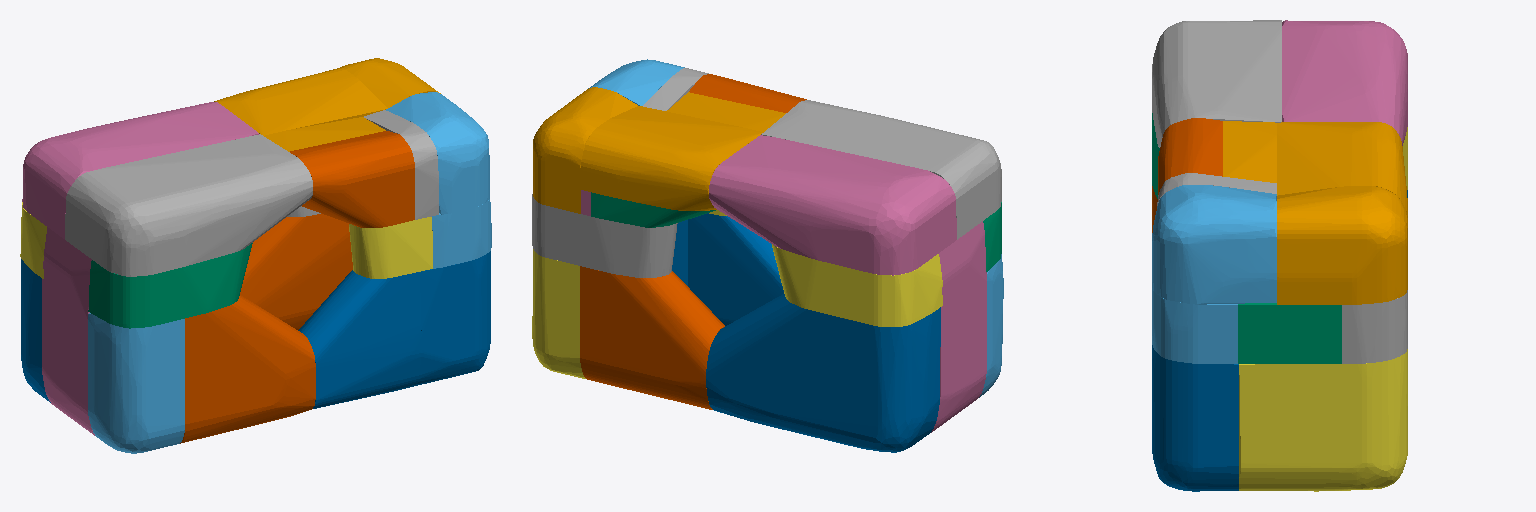
The robot description file, URDF, robot "root":
<robot name="root">
  <link name="link_convex_piece_018.obj">
    <inertial>
      <origin xyz="0 0 0" rpy="0 0 0"/>
    </inertial>
    <visual>
      <origin xyz="0 0 0" rpy="0 0 0"/>
      <geometry>
        <mesh filename="meshes/convex_piece_018.obj" scale="1.0 1.0 1.0"/>
      </geometry>
    </visual>
    <collision>
      <origin xyz="0 0 0" rpy="0 0 0"/>
      <geometry>
        <mesh filename="meshes/convex_piece_018.obj" scale="1.0 1.0 1.0"/>
      </geometry>
    </collision>
  </link>
  <link name="link_convex_piece_021.obj">
    <inertial>
      <origin xyz="0 0 0" rpy="0 0 0"/>
    </inertial>
    <visual>
      <origin xyz="0 0 0" rpy="0 0 0"/>
      <geometry>
        <mesh filename="meshes/convex_piece_021.obj" scale="1.0 1.0 1.0"/>
      </geometry>
    </visual>
    <collision>
      <origin xyz="0 0 0" rpy="0 0 0"/>
      <geometry>
        <mesh filename="meshes/convex_piece_021.obj" scale="1.0 1.0 1.0"/>
      </geometry>
    </collision>
  </link>
  <joint name="link_convex_piece_021.obj_joint" type="fixed">
    <origin xyz="0 0 0" rpy="0 0 0"/>
    <parent link="link_convex_piece_018.obj"/>
    <child link="link_convex_piece_021.obj"/>
  </joint>
  <link name="link_convex_piece_012.obj">
    <inertial>
      <origin xyz="0 0 0" rpy="0 0 0"/>
    </inertial>
    <visual>
      <origin xyz="0 0 0" rpy="0 0 0"/>
      <geometry>
        <mesh filename="meshes/convex_piece_012.obj" scale="1.0 1.0 1.0"/>
      </geometry>
    </visual>
    <collision>
      <origin xyz="0 0 0" rpy="0 0 0"/>
      <geometry>
        <mesh filename="meshes/convex_piece_012.obj" scale="1.0 1.0 1.0"/>
      </geometry>
    </collision>
  </link>
  <joint name="link_convex_piece_012.obj_joint" type="fixed">
    <origin xyz="0 0 0" rpy="0 0 0"/>
    <parent link="link_convex_piece_021.obj"/>
    <child link="link_convex_piece_012.obj"/>
  </joint>
  <link name="link_convex_piece_019.obj">
    <inertial>
      <origin xyz="0 0 0" rpy="0 0 0"/>
    </inertial>
    <visual>
      <origin xyz="0 0 0" rpy="0 0 0"/>
      <geometry>
        <mesh filename="meshes/convex_piece_019.obj" scale="1.0 1.0 1.0"/>
      </geometry>
    </visual>
    <collision>
      <origin xyz="0 0 0" rpy="0 0 0"/>
      <geometry>
        <mesh filename="meshes/convex_piece_019.obj" scale="1.0 1.0 1.0"/>
      </geometry>
    </collision>
  </link>
  <joint name="link_convex_piece_019.obj_joint" type="fixed">
    <origin xyz="0 0 0" rpy="0 0 0"/>
    <parent link="link_convex_piece_012.obj"/>
    <child link="link_convex_piece_019.obj"/>
  </joint>
  <link name="link_convex_piece_014.obj">
    <inertial>
      <origin xyz="0 0 0" rpy="0 0 0"/>
    </inertial>
    <visual>
      <origin xyz="0 0 0" rpy="0 0 0"/>
      <geometry>
        <mesh filename="meshes/convex_piece_014.obj" scale="1.0 1.0 1.0"/>
      </geometry>
    </visual>
    <collision>
      <origin xyz="0 0 0" rpy="0 0 0"/>
      <geometry>
        <mesh filename="meshes/convex_piece_014.obj" scale="1.0 1.0 1.0"/>
      </geometry>
    </collision>
  </link>
  <joint name="link_convex_piece_014.obj_joint" type="fixed">
    <origin xyz="0 0 0" rpy="0 0 0"/>
    <parent link="link_convex_piece_019.obj"/>
    <child link="link_convex_piece_014.obj"/>
  </joint>
  <link name="link_convex_piece_020.obj">
    <inertial>
      <origin xyz="0 0 0" rpy="0 0 0"/>
    </inertial>
    <visual>
      <origin xyz="0 0 0" rpy="0 0 0"/>
      <geometry>
        <mesh filename="meshes/convex_piece_020.obj" scale="1.0 1.0 1.0"/>
      </geometry>
    </visual>
    <collision>
      <origin xyz="0 0 0" rpy="0 0 0"/>
      <geometry>
        <mesh filename="meshes/convex_piece_020.obj" scale="1.0 1.0 1.0"/>
      </geometry>
    </collision>
  </link>
  <joint name="link_convex_piece_020.obj_joint" type="fixed">
    <origin xyz="0 0 0" rpy="0 0 0"/>
    <parent link="link_convex_piece_014.obj"/>
    <child link="link_convex_piece_020.obj"/>
  </joint>
  <link name="link_convex_piece_004.obj">
    <inertial>
      <origin xyz="0 0 0" rpy="0 0 0"/>
    </inertial>
    <visual>
      <origin xyz="0 0 0" rpy="0 0 0"/>
      <geometry>
        <mesh filename="meshes/convex_piece_004.obj" scale="1.0 1.0 1.0"/>
      </geometry>
    </visual>
    <collision>
      <origin xyz="0 0 0" rpy="0 0 0"/>
      <geometry>
        <mesh filename="meshes/convex_piece_004.obj" scale="1.0 1.0 1.0"/>
      </geometry>
    </collision>
  </link>
  <joint name="link_convex_piece_004.obj_joint" type="fixed">
    <origin xyz="0 0 0" rpy="0 0 0"/>
    <parent link="link_convex_piece_020.obj"/>
    <child link="link_convex_piece_004.obj"/>
  </joint>
  <link name="link_convex_piece_001.obj">
    <inertial>
      <origin xyz="0 0 0" rpy="0 0 0"/>
    </inertial>
    <visual>
      <origin xyz="0 0 0" rpy="0 0 0"/>
      <geometry>
        <mesh filename="meshes/convex_piece_001.obj" scale="1.0 1.0 1.0"/>
      </geometry>
    </visual>
    <collision>
      <origin xyz="0 0 0" rpy="0 0 0"/>
      <geometry>
        <mesh filename="meshes/convex_piece_001.obj" scale="1.0 1.0 1.0"/>
      </geometry>
    </collision>
  </link>
  <joint name="link_convex_piece_001.obj_joint" type="fixed">
    <origin xyz="0 0 0" rpy="0 0 0"/>
    <parent link="link_convex_piece_004.obj"/>
    <child link="link_convex_piece_001.obj"/>
  </joint>
  <link name="link_convex_piece_015.obj">
    <inertial>
      <origin xyz="0 0 0" rpy="0 0 0"/>
    </inertial>
    <visual>
      <origin xyz="0 0 0" rpy="0 0 0"/>
      <geometry>
        <mesh filename="meshes/convex_piece_015.obj" scale="1.0 1.0 1.0"/>
      </geometry>
    </visual>
    <collision>
      <origin xyz="0 0 0" rpy="0 0 0"/>
      <geometry>
        <mesh filename="meshes/convex_piece_015.obj" scale="1.0 1.0 1.0"/>
      </geometry>
    </collision>
  </link>
  <joint name="link_convex_piece_015.obj_joint" type="fixed">
    <origin xyz="0 0 0" rpy="0 0 0"/>
    <parent link="link_convex_piece_001.obj"/>
    <child link="link_convex_piece_015.obj"/>
  </joint>
  <link name="link_convex_piece_005.obj">
    <inertial>
      <origin xyz="0 0 0" rpy="0 0 0"/>
    </inertial>
    <visual>
      <origin xyz="0 0 0" rpy="0 0 0"/>
      <geometry>
        <mesh filename="meshes/convex_piece_005.obj" scale="1.0 1.0 1.0"/>
      </geometry>
    </visual>
    <collision>
      <origin xyz="0 0 0" rpy="0 0 0"/>
      <geometry>
        <mesh filename="meshes/convex_piece_005.obj" scale="1.0 1.0 1.0"/>
      </geometry>
    </collision>
  </link>
  <joint name="link_convex_piece_005.obj_joint" type="fixed">
    <origin xyz="0 0 0" rpy="0 0 0"/>
    <parent link="link_convex_piece_015.obj"/>
    <child link="link_convex_piece_005.obj"/>
  </joint>
  <link name="link_convex_piece_013.obj">
    <inertial>
      <origin xyz="0 0 0" rpy="0 0 0"/>
    </inertial>
    <visual>
      <origin xyz="0 0 0" rpy="0 0 0"/>
      <geometry>
        <mesh filename="meshes/convex_piece_013.obj" scale="1.0 1.0 1.0"/>
      </geometry>
    </visual>
    <collision>
      <origin xyz="0 0 0" rpy="0 0 0"/>
      <geometry>
        <mesh filename="meshes/convex_piece_013.obj" scale="1.0 1.0 1.0"/>
      </geometry>
    </collision>
  </link>
  <joint name="link_convex_piece_013.obj_joint" type="fixed">
    <origin xyz="0 0 0" rpy="0 0 0"/>
    <parent link="link_convex_piece_005.obj"/>
    <child link="link_convex_piece_013.obj"/>
  </joint>
  <link name="link_convex_piece_002.obj">
    <inertial>
      <origin xyz="0 0 0" rpy="0 0 0"/>
    </inertial>
    <visual>
      <origin xyz="0 0 0" rpy="0 0 0"/>
      <geometry>
        <mesh filename="meshes/convex_piece_002.obj" scale="1.0 1.0 1.0"/>
      </geometry>
    </visual>
    <collision>
      <origin xyz="0 0 0" rpy="0 0 0"/>
      <geometry>
        <mesh filename="meshes/convex_piece_002.obj" scale="1.0 1.0 1.0"/>
      </geometry>
    </collision>
  </link>
  <joint name="link_convex_piece_002.obj_joint" type="fixed">
    <origin xyz="0 0 0" rpy="0 0 0"/>
    <parent link="link_convex_piece_013.obj"/>
    <child link="link_convex_piece_002.obj"/>
  </joint>
  <link name="link_convex_piece_010.obj">
    <inertial>
      <origin xyz="0 0 0" rpy="0 0 0"/>
    </inertial>
    <visual>
      <origin xyz="0 0 0" rpy="0 0 0"/>
      <geometry>
        <mesh filename="meshes/convex_piece_010.obj" scale="1.0 1.0 1.0"/>
      </geometry>
    </visual>
    <collision>
      <origin xyz="0 0 0" rpy="0 0 0"/>
      <geometry>
        <mesh filename="meshes/convex_piece_010.obj" scale="1.0 1.0 1.0"/>
      </geometry>
    </collision>
  </link>
  <joint name="link_convex_piece_010.obj_joint" type="fixed">
    <origin xyz="0 0 0" rpy="0 0 0"/>
    <parent link="link_convex_piece_002.obj"/>
    <child link="link_convex_piece_010.obj"/>
  </joint>
  <link name="link_convex_piece_006.obj">
    <inertial>
      <origin xyz="0 0 0" rpy="0 0 0"/>
    </inertial>
    <visual>
      <origin xyz="0 0 0" rpy="0 0 0"/>
      <geometry>
        <mesh filename="meshes/convex_piece_006.obj" scale="1.0 1.0 1.0"/>
      </geometry>
    </visual>
    <collision>
      <origin xyz="0 0 0" rpy="0 0 0"/>
      <geometry>
        <mesh filename="meshes/convex_piece_006.obj" scale="1.0 1.0 1.0"/>
      </geometry>
    </collision>
  </link>
  <joint name="link_convex_piece_006.obj_joint" type="fixed">
    <origin xyz="0 0 0" rpy="0 0 0"/>
    <parent link="link_convex_piece_010.obj"/>
    <child link="link_convex_piece_006.obj"/>
  </joint>
  <link name="link_convex_piece_003.obj">
    <inertial>
      <origin xyz="0 0 0" rpy="0 0 0"/>
    </inertial>
    <visual>
      <origin xyz="0 0 0" rpy="0 0 0"/>
      <geometry>
        <mesh filename="meshes/convex_piece_003.obj" scale="1.0 1.0 1.0"/>
      </geometry>
    </visual>
    <collision>
      <origin xyz="0 0 0" rpy="0 0 0"/>
      <geometry>
        <mesh filename="meshes/convex_piece_003.obj" scale="1.0 1.0 1.0"/>
      </geometry>
    </collision>
  </link>
  <joint name="link_convex_piece_003.obj_joint" type="fixed">
    <origin xyz="0 0 0" rpy="0 0 0"/>
    <parent link="link_convex_piece_006.obj"/>
    <child link="link_convex_piece_003.obj"/>
  </joint>
  <link name="link_convex_piece_008.obj">
    <inertial>
      <origin xyz="0 0 0" rpy="0 0 0"/>
    </inertial>
    <visual>
      <origin xyz="0 0 0" rpy="0 0 0"/>
      <geometry>
        <mesh filename="meshes/convex_piece_008.obj" scale="1.0 1.0 1.0"/>
      </geometry>
    </visual>
    <collision>
      <origin xyz="0 0 0" rpy="0 0 0"/>
      <geometry>
        <mesh filename="meshes/convex_piece_008.obj" scale="1.0 1.0 1.0"/>
      </geometry>
    </collision>
  </link>
  <joint name="link_convex_piece_008.obj_joint" type="fixed">
    <origin xyz="0 0 0" rpy="0 0 0"/>
    <parent link="link_convex_piece_003.obj"/>
    <child link="link_convex_piece_008.obj"/>
  </joint>
  <link name="link_convex_piece_023.obj">
    <inertial>
      <origin xyz="0 0 0" rpy="0 0 0"/>
    </inertial>
    <visual>
      <origin xyz="0 0 0" rpy="0 0 0"/>
      <geometry>
        <mesh filename="meshes/convex_piece_023.obj" scale="1.0 1.0 1.0"/>
      </geometry>
    </visual>
    <collision>
      <origin xyz="0 0 0" rpy="0 0 0"/>
      <geometry>
        <mesh filename="meshes/convex_piece_023.obj" scale="1.0 1.0 1.0"/>
      </geometry>
    </collision>
  </link>
  <joint name="link_convex_piece_023.obj_joint" type="fixed">
    <origin xyz="0 0 0" rpy="0 0 0"/>
    <parent link="link_convex_piece_008.obj"/>
    <child link="link_convex_piece_023.obj"/>
  </joint>
  <link name="link_convex_piece_022.obj">
    <inertial>
      <origin xyz="0 0 0" rpy="0 0 0"/>
    </inertial>
    <visual>
      <origin xyz="0 0 0" rpy="0 0 0"/>
      <geometry>
        <mesh filename="meshes/convex_piece_022.obj" scale="1.0 1.0 1.0"/>
      </geometry>
    </visual>
    <collision>
      <origin xyz="0 0 0" rpy="0 0 0"/>
      <geometry>
        <mesh filename="meshes/convex_piece_022.obj" scale="1.0 1.0 1.0"/>
      </geometry>
    </collision>
  </link>
  <joint name="link_convex_piece_022.obj_joint" type="fixed">
    <origin xyz="0 0 0" rpy="0 0 0"/>
    <parent link="link_convex_piece_023.obj"/>
    <child link="link_convex_piece_022.obj"/>
  </joint>
  <link name="link_convex_piece_011.obj">
    <inertial>
      <origin xyz="0 0 0" rpy="0 0 0"/>
    </inertial>
    <visual>
      <origin xyz="0 0 0" rpy="0 0 0"/>
      <geometry>
        <mesh filename="meshes/convex_piece_011.obj" scale="1.0 1.0 1.0"/>
      </geometry>
    </visual>
    <collision>
      <origin xyz="0 0 0" rpy="0 0 0"/>
      <geometry>
        <mesh filename="meshes/convex_piece_011.obj" scale="1.0 1.0 1.0"/>
      </geometry>
    </collision>
  </link>
  <joint name="link_convex_piece_011.obj_joint" type="fixed">
    <origin xyz="0 0 0" rpy="0 0 0"/>
    <parent link="link_convex_piece_022.obj"/>
    <child link="link_convex_piece_011.obj"/>
  </joint>
  <link name="link_convex_piece_000.obj">
    <inertial>
      <origin xyz="0 0 0" rpy="0 0 0"/>
    </inertial>
    <visual>
      <origin xyz="0 0 0" rpy="0 0 0"/>
      <geometry>
        <mesh filename="meshes/convex_piece_000.obj" scale="1.0 1.0 1.0"/>
      </geometry>
    </visual>
    <collision>
      <origin xyz="0 0 0" rpy="0 0 0"/>
      <geometry>
        <mesh filename="meshes/convex_piece_000.obj" scale="1.0 1.0 1.0"/>
      </geometry>
    </collision>
  </link>
  <joint name="link_convex_piece_000.obj_joint" type="fixed">
    <origin xyz="0 0 0" rpy="0 0 0"/>
    <parent link="link_convex_piece_011.obj"/>
    <child link="link_convex_piece_000.obj"/>
  </joint>
  <link name="link_convex_piece_016.obj">
    <inertial>
      <origin xyz="0 0 0" rpy="0 0 0"/>
    </inertial>
    <visual>
      <origin xyz="0 0 0" rpy="0 0 0"/>
      <geometry>
        <mesh filename="meshes/convex_piece_016.obj" scale="1.0 1.0 1.0"/>
      </geometry>
    </visual>
    <collision>
      <origin xyz="0 0 0" rpy="0 0 0"/>
      <geometry>
        <mesh filename="meshes/convex_piece_016.obj" scale="1.0 1.0 1.0"/>
      </geometry>
    </collision>
  </link>
  <joint name="link_convex_piece_016.obj_joint" type="fixed">
    <origin xyz="0 0 0" rpy="0 0 0"/>
    <parent link="link_convex_piece_000.obj"/>
    <child link="link_convex_piece_016.obj"/>
  </joint>
  <link name="link_convex_piece_009.obj">
    <inertial>
      <origin xyz="0 0 0" rpy="0 0 0"/>
    </inertial>
    <visual>
      <origin xyz="0 0 0" rpy="0 0 0"/>
      <geometry>
        <mesh filename="meshes/convex_piece_009.obj" scale="1.0 1.0 1.0"/>
      </geometry>
    </visual>
    <collision>
      <origin xyz="0 0 0" rpy="0 0 0"/>
      <geometry>
        <mesh filename="meshes/convex_piece_009.obj" scale="1.0 1.0 1.0"/>
      </geometry>
    </collision>
  </link>
  <joint name="link_convex_piece_009.obj_joint" type="fixed">
    <origin xyz="0 0 0" rpy="0 0 0"/>
    <parent link="link_convex_piece_016.obj"/>
    <child link="link_convex_piece_009.obj"/>
  </joint>
  <link name="link_convex_piece_007.obj">
    <inertial>
      <origin xyz="0 0 0" rpy="0 0 0"/>
    </inertial>
    <visual>
      <origin xyz="0 0 0" rpy="0 0 0"/>
      <geometry>
        <mesh filename="meshes/convex_piece_007.obj" scale="1.0 1.0 1.0"/>
      </geometry>
    </visual>
    <collision>
      <origin xyz="0 0 0" rpy="0 0 0"/>
      <geometry>
        <mesh filename="meshes/convex_piece_007.obj" scale="1.0 1.0 1.0"/>
      </geometry>
    </collision>
  </link>
  <joint name="link_convex_piece_007.obj_joint" type="fixed">
    <origin xyz="0 0 0" rpy="0 0 0"/>
    <parent link="link_convex_piece_009.obj"/>
    <child link="link_convex_piece_007.obj"/>
  </joint>
  <link name="link_convex_piece_017.obj">
    <inertial>
      <origin xyz="0 0 0" rpy="0 0 0"/>
    </inertial>
    <visual>
      <origin xyz="0 0 0" rpy="0 0 0"/>
      <geometry>
        <mesh filename="meshes/convex_piece_017.obj" scale="1.0 1.0 1.0"/>
      </geometry>
    </visual>
    <collision>
      <origin xyz="0 0 0" rpy="0 0 0"/>
      <geometry>
        <mesh filename="meshes/convex_piece_017.obj" scale="1.0 1.0 1.0"/>
      </geometry>
    </collision>
  </link>
  <joint name="link_convex_piece_017.obj_joint" type="fixed">
    <origin xyz="0 0 0" rpy="0 0 0"/>
    <parent link="link_convex_piece_007.obj"/>
    <child link="link_convex_piece_017.obj"/>
  </joint>
</robot>

--- Render facts (derived) ---
The picture shows the robot from 3 angles, left to right: view 1: azimuth 30°, elevation 25°; view 2: azimuth 150°, elevation 25°; view 3: azimuth 270°, elevation 25°; orthographic projection.
Model root with 24 links and 23 joints (23 fixed), rooted at link_convex_piece_018.obj, posed every joint at zero.
Links seen in each view (by area): view 1: link_convex_piece_008.obj, link_convex_piece_009.obj, link_convex_piece_014.obj, link_convex_piece_005.obj, link_convex_piece_007.obj, link_convex_piece_020.obj, link_convex_piece_006.obj, link_convex_piece_013.obj, link_convex_piece_004.obj, link_convex_piece_016.obj, link_convex_piece_023.obj, link_convex_piece_022.obj (+7 smaller); view 2: link_convex_piece_010.obj, link_convex_piece_007.obj, link_convex_piece_006.obj, link_convex_piece_023.obj, link_convex_piece_008.obj, link_convex_piece_002.obj, link_convex_piece_004.obj, link_convex_piece_014.obj, link_convex_piece_001.obj, link_convex_piece_015.obj, link_convex_piece_000.obj, link_convex_piece_018.obj (+7 smaller); view 3: link_convex_piece_000.obj, link_convex_piece_015.obj, link_convex_piece_022.obj, link_convex_piece_008.obj, link_convex_piece_007.obj, link_convex_piece_016.obj, link_convex_piece_023.obj, link_convex_piece_011.obj, link_convex_piece_021.obj, link_convex_piece_001.obj, link_convex_piece_020.obj, link_convex_piece_018.obj (+1 smaller).
Link boxes in pixels (bbox=[...]): link_convex_piece_008.obj: bbox=[65, 134, 312, 276]; link_convex_piece_009.obj: bbox=[180, 295, 315, 443]; link_convex_piece_014.obj: bbox=[298, 270, 421, 408]; link_convex_piece_005.obj: bbox=[88, 313, 184, 453]; link_convex_piece_007.obj: bbox=[22, 102, 258, 238]; link_convex_piece_020.obj: bbox=[290, 131, 414, 227]; link_convex_piece_006.obj: bbox=[240, 214, 352, 329]; link_convex_piece_013.obj: bbox=[88, 243, 252, 328]; link_convex_piece_004.obj: bbox=[42, 227, 94, 435]; link_convex_piece_016.obj: bbox=[416, 251, 490, 385]; link_convex_piece_023.obj: bbox=[214, 68, 387, 135]; link_convex_piece_022.obj: bbox=[386, 92, 489, 214]; link_convex_piece_010.obj: bbox=[706, 294, 940, 452]; link_convex_piece_007.obj: bbox=[709, 135, 956, 275]; link_convex_piece_006.obj: bbox=[580, 266, 724, 409]; link_convex_piece_023.obj: bbox=[581, 106, 763, 210]; link_convex_piece_008.obj: bbox=[761, 100, 1001, 239]; link_convex_piece_002.obj: bbox=[772, 244, 942, 326]; link_convex_piece_004.obj: bbox=[931, 221, 986, 432]; link_convex_piece_014.obj: bbox=[688, 213, 783, 325]; link_convex_piece_001.obj: bbox=[532, 194, 677, 277]; link_convex_piece_015.obj: bbox=[533, 87, 637, 213]; link_convex_piece_000.obj: bbox=[532, 249, 585, 378]; link_convex_piece_018.obj: bbox=[667, 92, 785, 131]; link_convex_piece_000.obj: bbox=[1239, 349, 1407, 491]; link_convex_piece_015.obj: bbox=[1277, 186, 1407, 304]; link_convex_piece_022.obj: bbox=[1152, 185, 1276, 304]; link_convex_piece_008.obj: bbox=[1152, 20, 1281, 147]; link_convex_piece_007.obj: bbox=[1282, 20, 1407, 145]; link_convex_piece_016.obj: bbox=[1152, 345, 1238, 491]; link_convex_piece_023.obj: bbox=[1277, 122, 1407, 215]; link_convex_piece_011.obj: bbox=[1238, 303, 1341, 363]; link_convex_piece_021.obj: bbox=[1152, 288, 1237, 363]; link_convex_piece_001.obj: bbox=[1342, 290, 1407, 363]; link_convex_piece_020.obj: bbox=[1158, 118, 1222, 194]; link_convex_piece_018.obj: bbox=[1223, 121, 1276, 182].
Size in the robot's own frame: 1.58 by 0.7962 by 0.9995 metres.
Meshes: 24 distinct files referenced, 24 mesh visuals loaded (24 OBJ).
